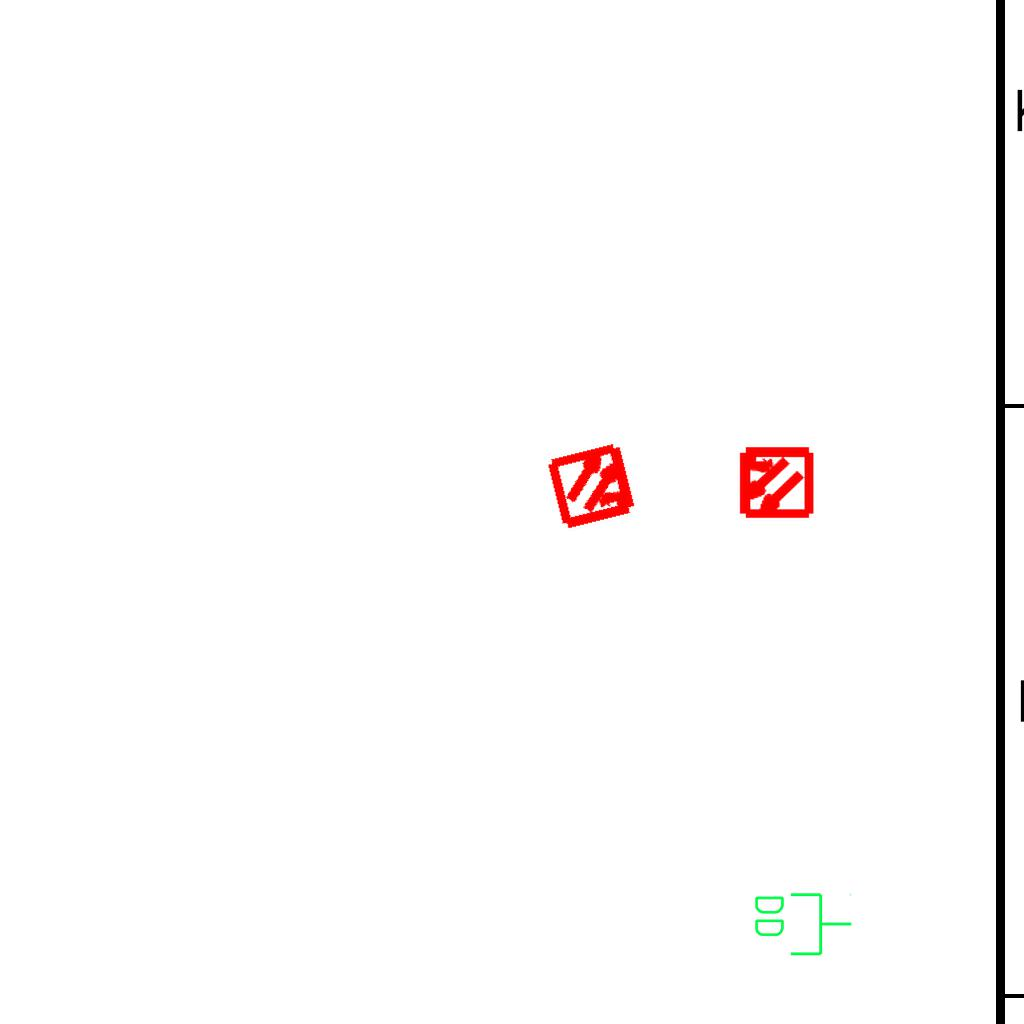Datenanschluss_zweifach: (751, 889, 854, 958)
OT_Multisensormelder_(Kombination_RMO_WMD): (525, 417, 662, 554), (718, 426, 831, 539)
